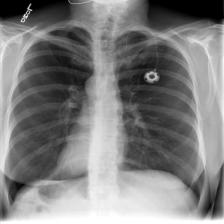normal: (4, 20, 204, 210)
